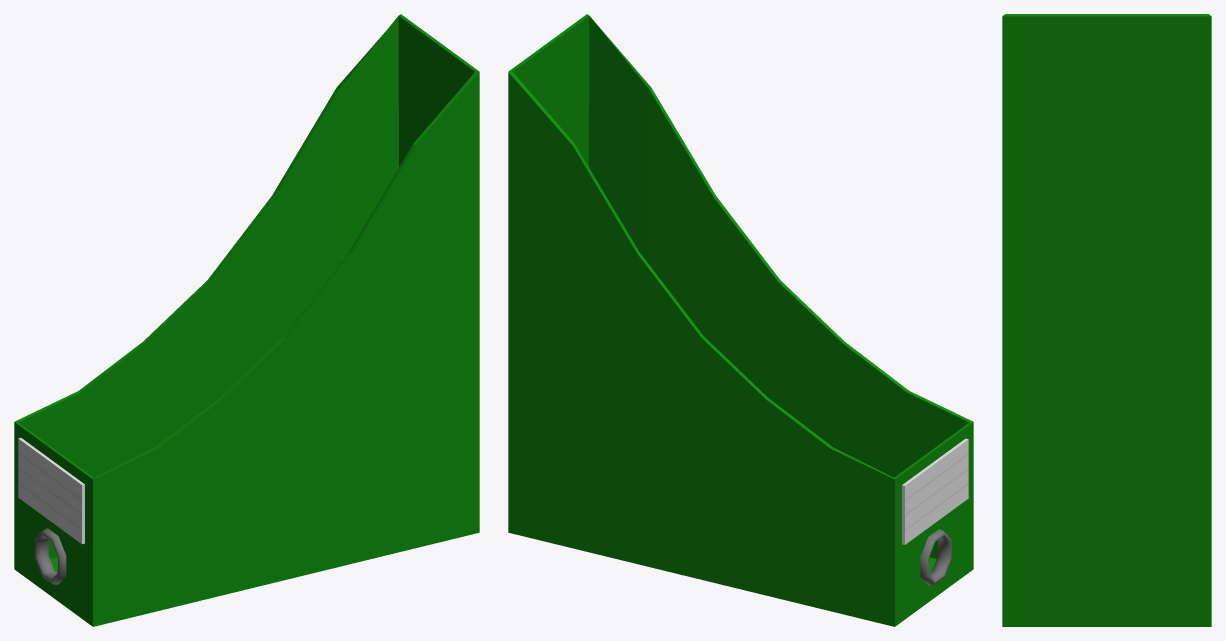
The model's file is File Holder02.fbx.
The picture shows the model from 3 angles, left to right: view 1: azimuth 30°, elevation 25°; view 2: azimuth 150°, elevation 25°; view 3: azimuth 270°, elevation 25°; orthographic projection. The views are drawn at different scales.
Parts seen in each view (by area): view 1: File Holder02; view 2: File Holder02; view 3: File Holder02.
Boxes of the visible parts, x1=… form: File Holder02: x1=14, y1=14, x2=479, y2=626; File Holder02: x1=508, y1=14, x2=973, y2=626; File Holder02: x1=1002, y1=14, x2=1211, y2=626.
Bounding box in the file's own units: 0.3018 × 0.1049 × 0.3382.
